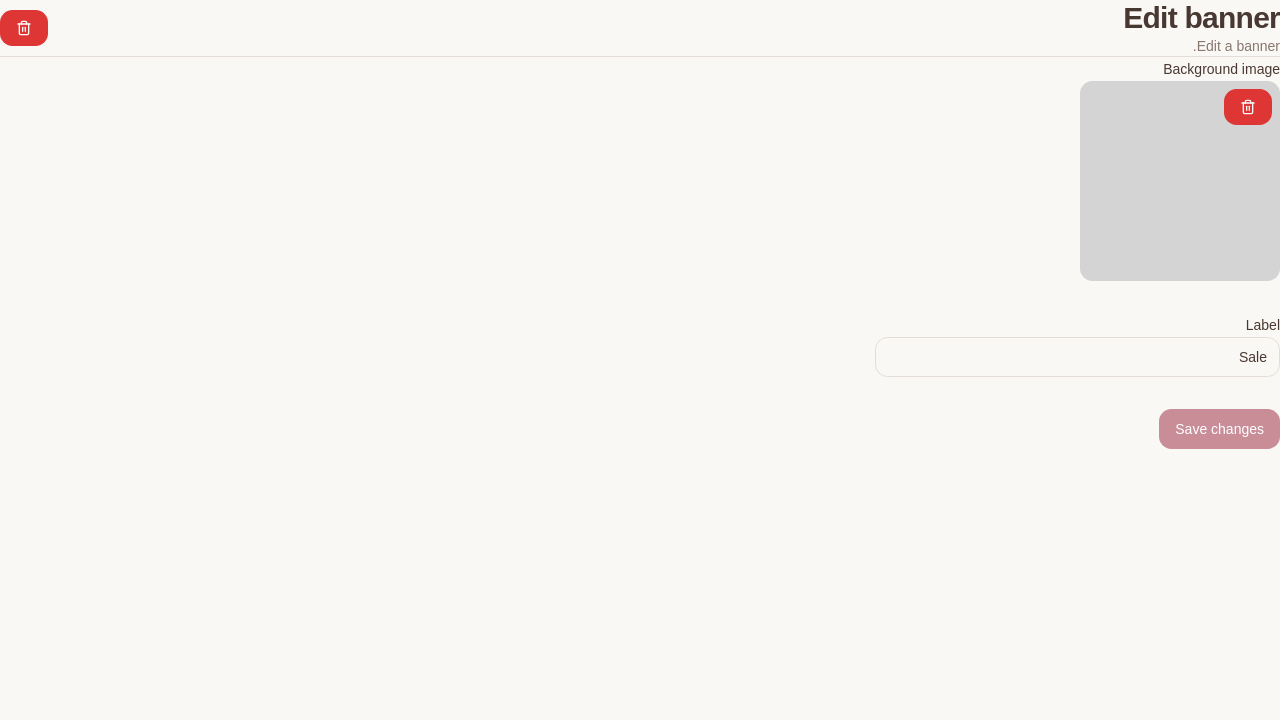
Scenario: admin BannerForm › deletes an existing banner after confirmation
The image size is (1280, 720).
Later steps or results of the test are not shown.
Click the button without text in the row of "Edit banner": (24, 28) [0,10,48,46]
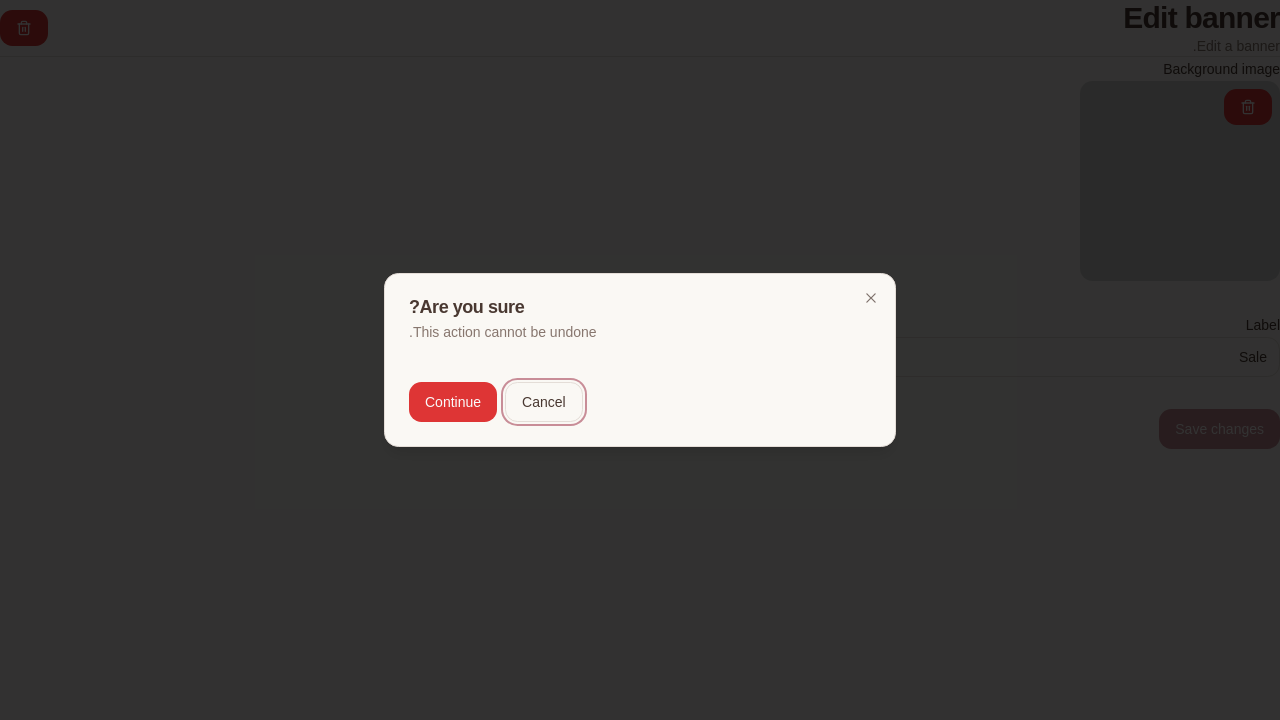
Now the button "Continue" is shown, box [409,382,497,422]
